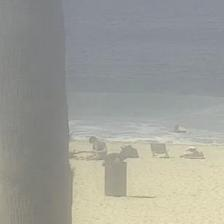surfer: (172, 125, 188, 133)
